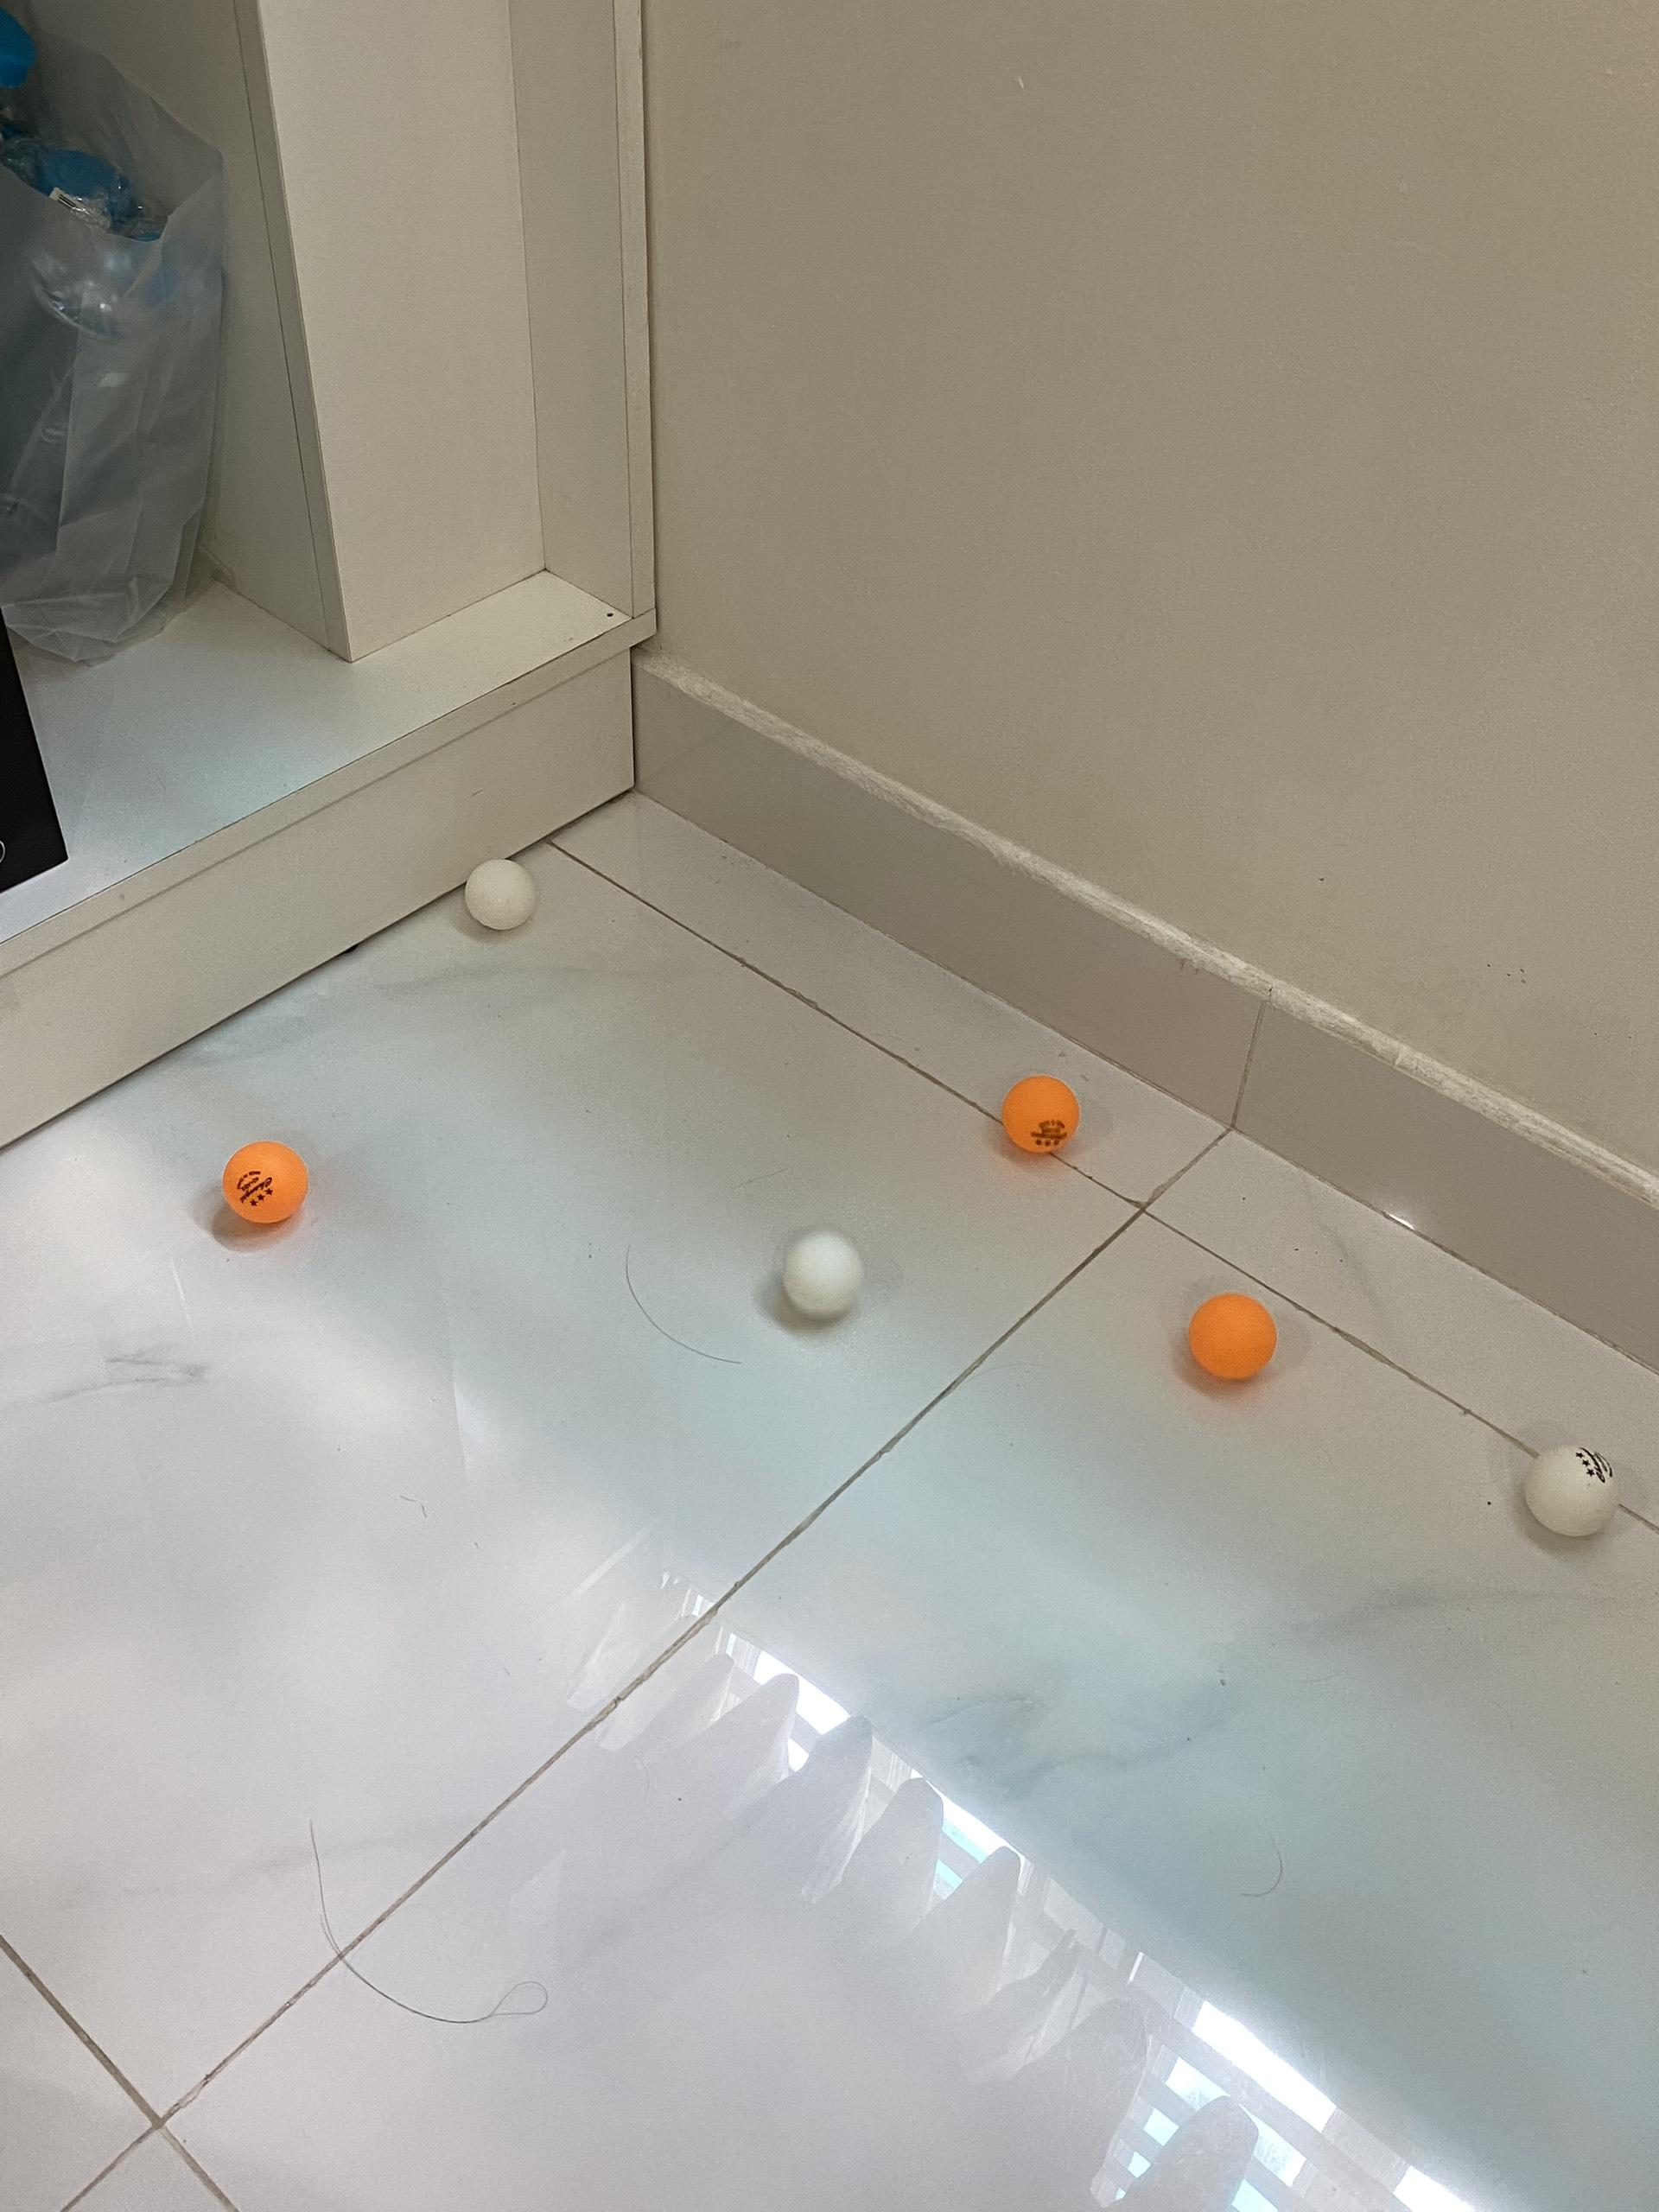oball: (221, 1141, 314, 1230), (1190, 1292, 1276, 1383), (1002, 1075, 1082, 1158)
